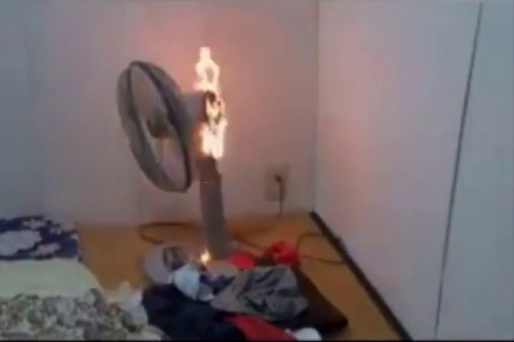fire: (191, 39, 230, 156)
